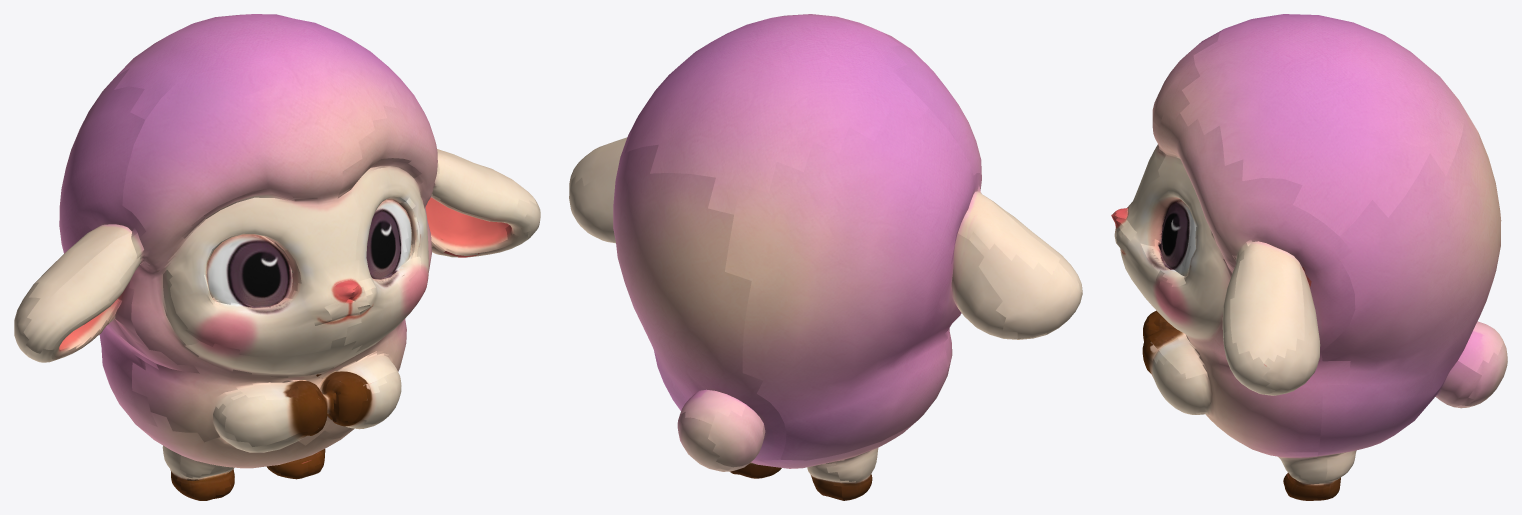
The model's file is asset_model_urls_glb.glb.
The picture shows the model from 3 angles, left to right: view 1: azimuth 30°, elevation 25°; view 2: azimuth 150°, elevation 25°; view 3: azimuth 270°, elevation 25°; orthographic projection. The views are drawn at different scales.
Size of the model in its own units: 1.9 by 1.6 by 1.3.
1 material, 1 textured.
